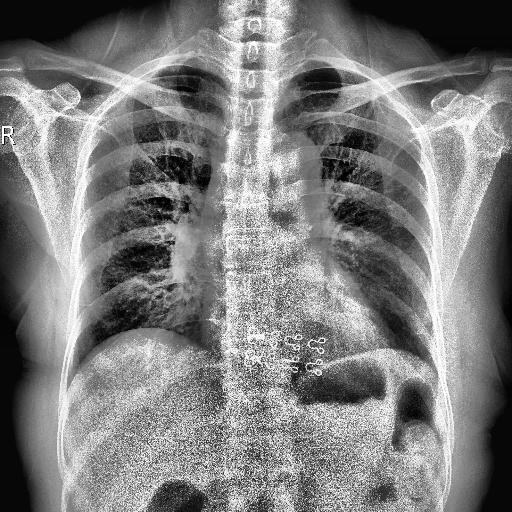0- Aortic enlargement: (257, 130, 323, 202), (260, 130, 322, 193), (268, 132, 324, 188)
3- Cardiomegaly: (198, 303, 402, 375)
